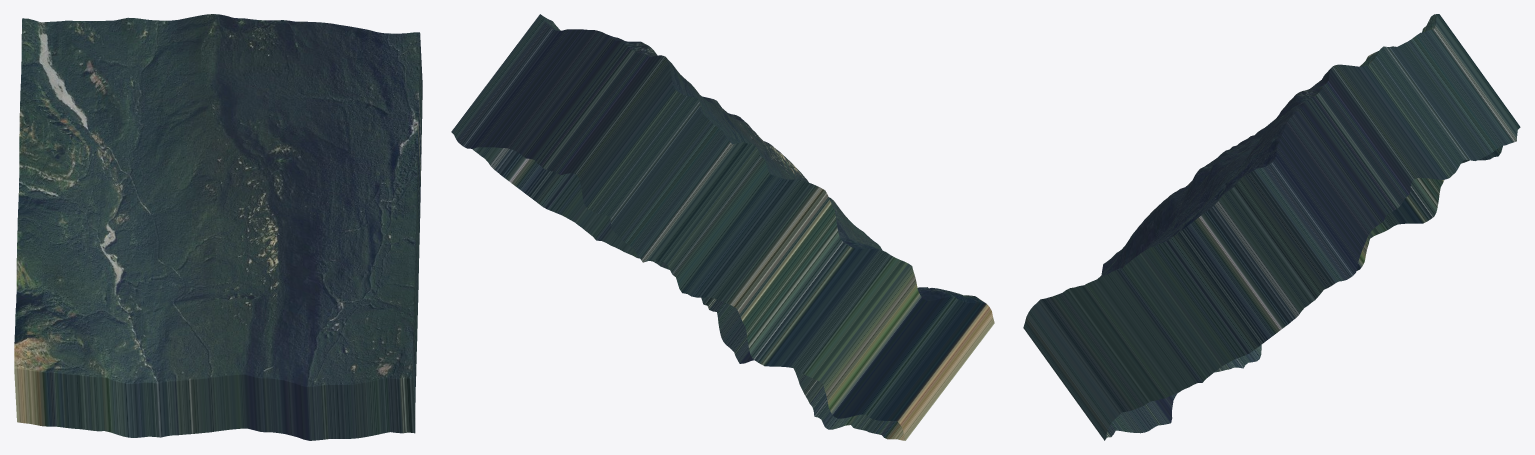
The picture shows the model from 3 angles, left to right: view 1: azimuth 30°, elevation 25°; view 2: azimuth 150°, elevation 25°; view 3: azimuth 270°, elevation 25°; orthographic projection. The views are drawn at different scales.
Bounding box in the file's own units: 11230 × 8356 × 10705.
Materials: 1 (1 with a texture image).
